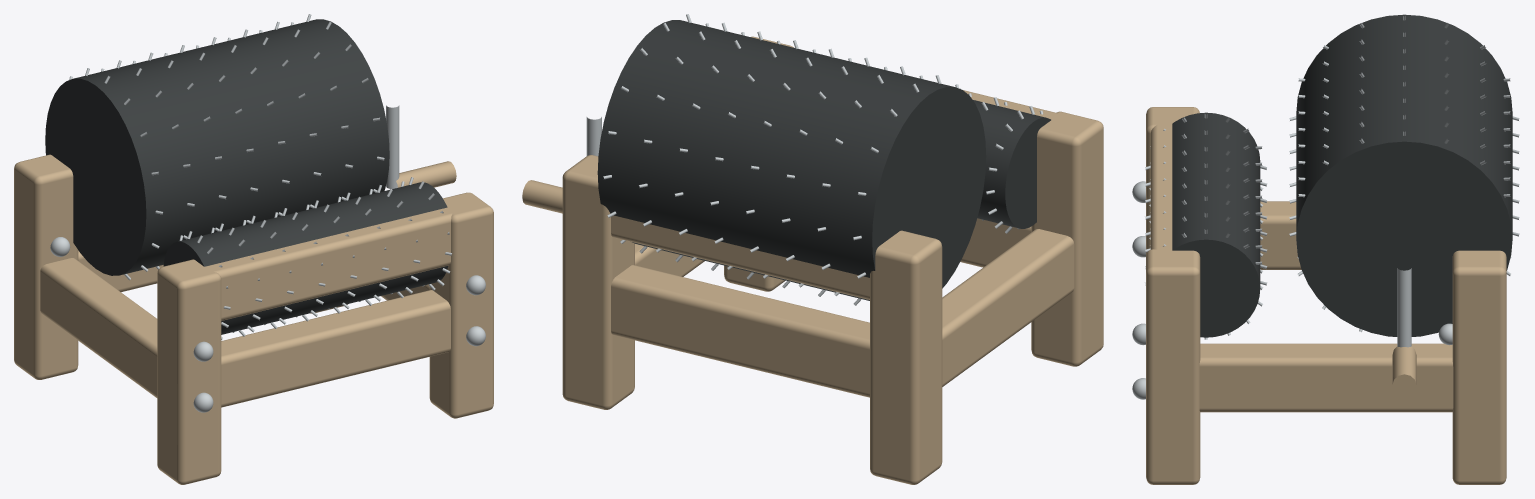
The model's file is textile-weaving-and-dye-workshop-carding-drum-d5efcca0__29545.glb.
The picture shows the model from 3 angles, left to right: view 1: azimuth 30°, elevation 25°; view 2: azimuth 150°, elevation 25°; view 3: azimuth 270°, elevation 25°; orthographic projection. The views are drawn at different scales.
Parts seen in each view (by area): view 1: carding-drum; view 2: carding-drum; view 3: carding-drum.
Part boxes in pixels (left/top/right/bottom): carding-drum: left=14, top=14, right=493, bottom=484; carding-drum: left=522, top=14, right=1103, bottom=484; carding-drum: left=1132, top=14, right=1519, bottom=484.
Size of the model in its own units: 0.805 by 0.6134 by 0.6464.
